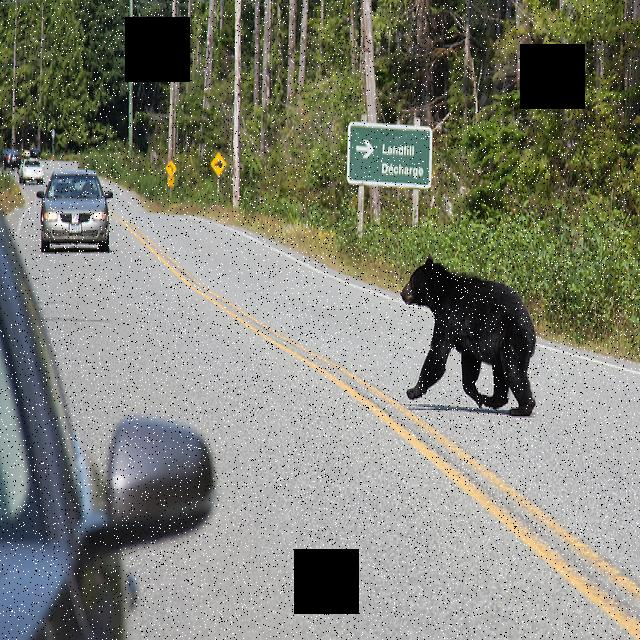Bear: (396, 255, 543, 424)
